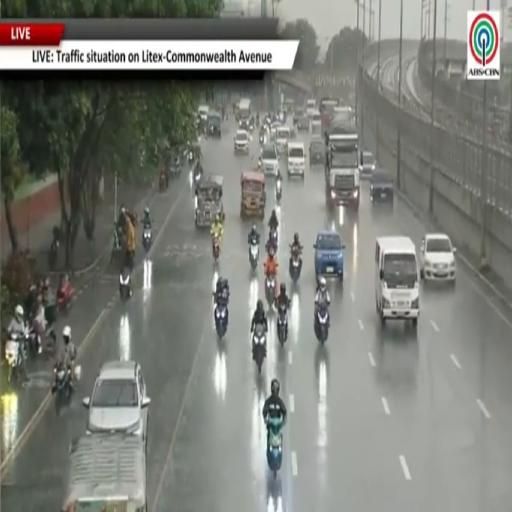car: (83, 361, 150, 443), (420, 233, 456, 283), (314, 230, 344, 281), (370, 169, 393, 204), (286, 142, 305, 178), (260, 142, 279, 177), (360, 151, 376, 179), (234, 130, 250, 154), (306, 99, 317, 117), (198, 105, 209, 122)
jeepney: (61, 434, 148, 511), (195, 175, 224, 227), (241, 171, 266, 218), (209, 111, 221, 137), (283, 99, 294, 114)
motorcycle: (5, 334, 26, 383), (53, 365, 72, 414), (267, 415, 282, 477), (252, 325, 266, 374), (315, 303, 329, 344), (111, 223, 124, 263), (57, 281, 74, 311), (27, 326, 42, 357), (215, 301, 227, 339), (289, 250, 302, 282), (277, 304, 287, 345), (119, 268, 131, 300), (48, 237, 59, 270), (265, 275, 275, 307), (249, 244, 258, 270), (212, 236, 220, 262), (143, 228, 152, 251), (269, 229, 278, 250), (194, 168, 202, 185), (159, 173, 166, 191), (276, 180, 282, 201), (188, 152, 194, 167), (248, 120, 254, 134), (259, 133, 265, 145)
truck: (325, 122, 361, 210), (319, 99, 339, 131)
